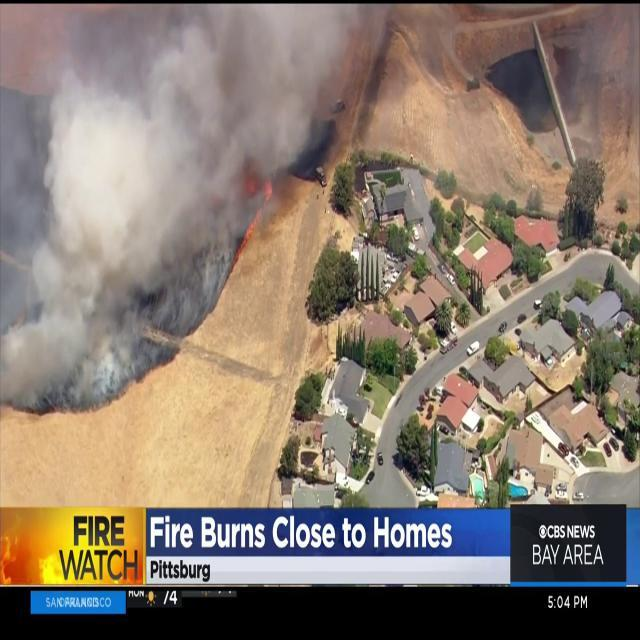Smoke: (0, 3, 328, 399)
